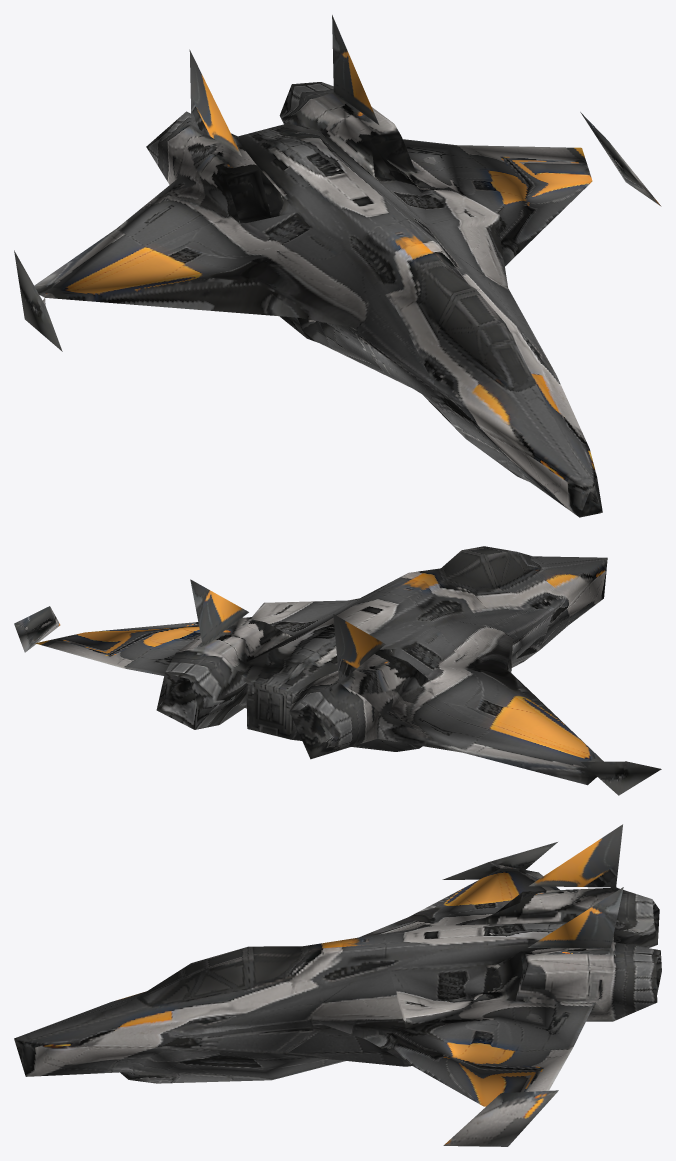
The model's file is tripo-rebaked-300.glb.
The picture shows the model from 3 angles, top to bottom: view 1: azimuth 30°, elevation 25°; view 2: azimuth 150°, elevation 25°; view 3: azimuth 270°, elevation 25°; orthographic projection. The views are drawn at different scales.
Parts seen in each view (by area): view 1: Low; view 2: Low; view 3: Low.
Part boxes in pixels (x1,y1,x2,y2): Low: [14, 15, 661, 517]; Low: [14, 546, 661, 795]; Low: [14, 824, 661, 1146].
Bounding box in the file's own units: 0.9423 × 0.3819 × 0.9778.
Materials: 1 (1 with a texture image).
